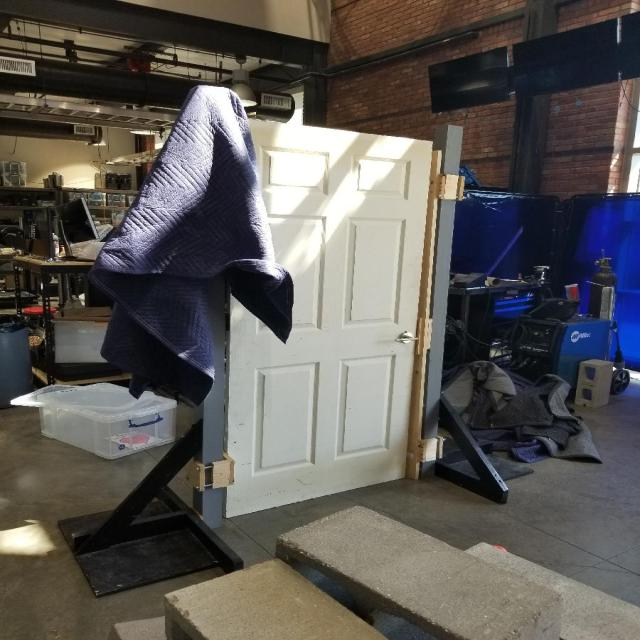doorhandle: (386, 328, 420, 349)
